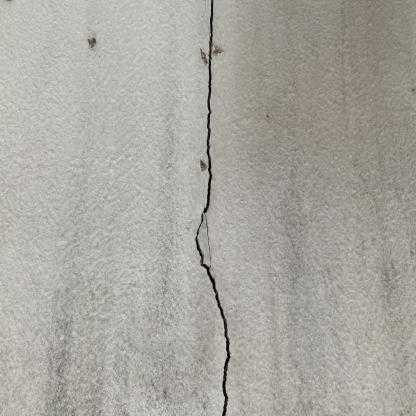crack: (193, 4, 231, 412)
